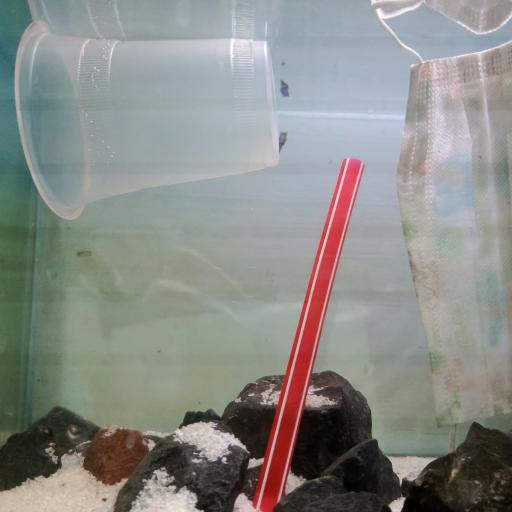mask: (377, 4, 512, 433)
plastic_cup: (13, 21, 280, 221)
plastic_straw: (256, 156, 366, 510)
